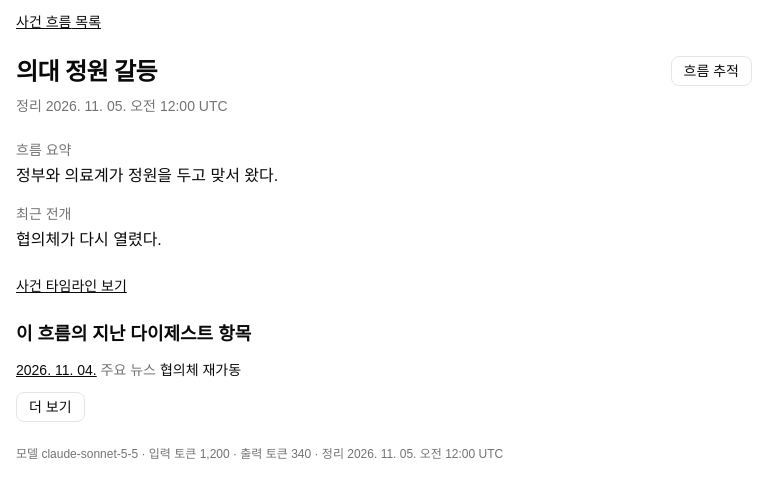
Test: UserStorylinePage › 지난 다이제스트 항목을 날짜 화면 링크와 함께 보이고, 더 보기는 받은 커서 두 값을 그대로 넘긴다
This screenshot has width=769, height=477.
Expected: the list item shows "주요 뉴스 협의체 재가동", [16,362,241,378]
Click the button "더 보기": [50, 407] box [16,392,84,422]
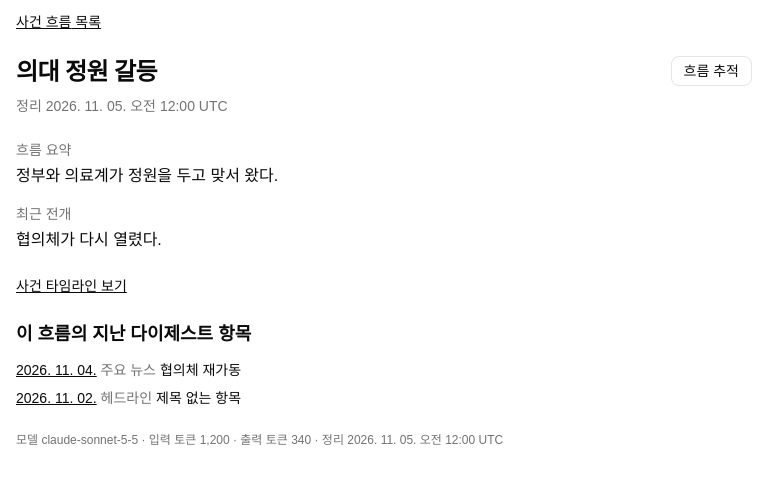
Now the number of list items is 2, box [16,362,241,378]; [16,390,241,406]
Now the list item "2026. 11. 02. 헤드라인 제목 없는 항목" is shown, box [16,390,241,406]
Now the button "더 보기" is gone
